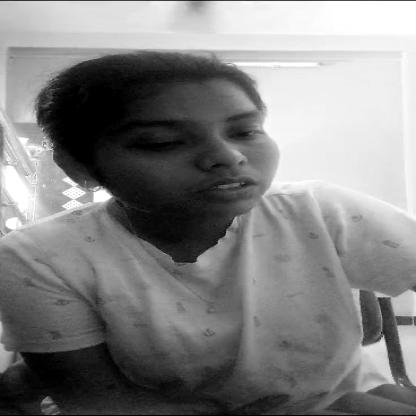Distracted: (76, 83, 283, 220)
